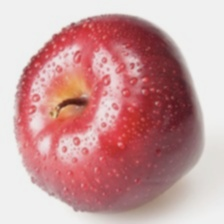apple: (18, 23, 214, 157)
